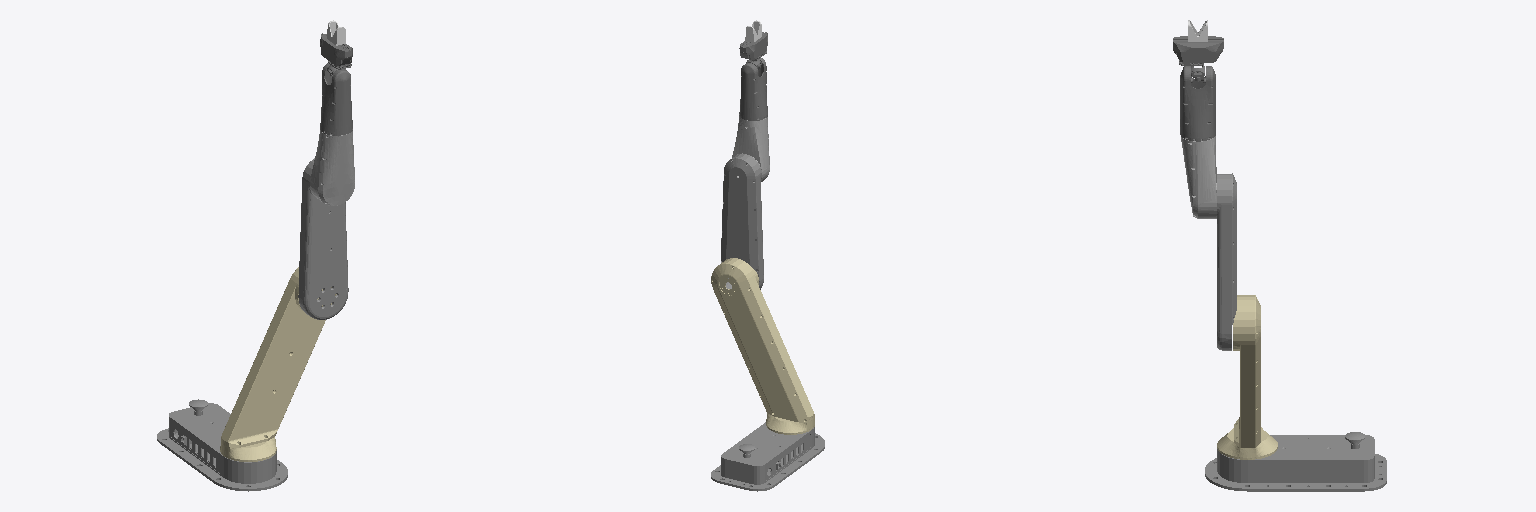
The robot description file, URDF, robot "wam":
<?xml version="1.0"?>
<robot name="wam">

    <link name="arm0">
        <visual>
            <origin xyz="0 0 0" rpy="1.57079633 0 1.57079633" />
            <geometry name="base-geom">
                <mesh filename="package://gambit_driver/models/arm0.stl"/>
            </geometry>
            <material name="base-mat">
                <color rgba="0.6 0.6 0.6 1.0"/>
            </material>
        </visual>
    </link>

    <link name="arm1">
        <visual>
            <origin xyz="0 0 0" rpy="1.5708 0 -1.5708" />
            <geometry name="torso-geom">
                <mesh filename="package://gambit_driver/models/arm1.stl"/>
            </geometry>
            <material name="torso-mat">
                <color rgba="0.83 0.80 0.67 1.0"/>
            </material>
        </visual>
    </link>
    <link name="arm2">
        <visual>
            <origin xyz="0 0 0" rpy="1.5708 0 1.5708" />
            <geometry name="upper_arm-geom">
                <mesh filename="package://gambit_driver/models/arm2.stl" />
            </geometry>
            <material name="upper_arm-mat">
                <color rgba="0.6 0.6 0.6 1.0"/>
            </material>
        </visual>
    </link>
    <link name="arm3">
        <visual>
            <origin xyz="0 0 0" rpy="1.5708 0 -1.5708" />
            <geometry name="forearm-geom">
                <mesh filename="package://gambit_driver/models/arm3.stl" />
            </geometry>
            <material name="forearm-mat">
                <color rgba="0.7 0.7 0.7 1.0"/>
            </material>
        </visual>
    </link>

    <link name="wrist1">
        <visual>
            <origin xyz="0 0 0" rpy="3.14159 0 1.5708"/>
            <geometry name="wrist_cover">
                <mesh filename="package://gambit_driver/models/wrist1.stl"/>
            </geometry>
            <material name="wrist_cover">
                <color rgba="0.5 0.5 0.5 1.0"/>
            </material>
        </visual>
    </link>
    <link name="wrist2">
        <visual>
            <origin xyz="0 0 0" rpy="0 0 1.5708"/>
            <geometry name="wrist2_geom">
                <mesh filename="package://gambit_driver/models/wrist2.stl"/>
            </geometry>
            <material name="wrist2_mat">
                <color rgba="0.5 0.5 0.5 1.0"/>
            </material>
        </visual>
    </link>

    <link name="wrist3">
        <visual>
            <origin xyz="0 0 0" rpy="0 0 1.5708"/>
            <geometry name="wrist3_geom">
                <mesh filename="package://gambit_driver/models/wrist3.stl"/>
            </geometry>
            <material name="wrist3_mat">
                <color rgba="0.5 0.5 0.5 1.0"/>
            </material>
        </visual>
    </link>
    
    <link name="gripper_left">
        <visual>
            <origin xyz="-0.012 -0.02 0.04" rpy="0 3.14159 -1.5708"/>
            <geometry name="gripper_left_geom">
                <mesh filename="package://gambit_driver/models/finger_jaw.stl"/>
            </geometry>
            <material name="gripper_left_mat">
                <color rgba="0.9 0.9 0.9 1.0"/>
            </material>
        </visual>
    </link>

    <link name="gripper_right">
        <visual>
            <origin xyz="0.012 0.02 0.04" rpy="0 3.14159 1.5708"/>
            <geometry name="gripper_right_geom">
                <mesh filename="package://gambit_driver/models/finger_jaw.stl"/>
            </geometry>
            <material name="gripper_right_mat">
                <color rgba="0.9 0.9 0.9 1.0"/>
            </material>
        </visual>
    </link>

    <!-- for debug -->
    <link name="gripper_link"/>
    <link name="gripper_tip"/>

    <!-- TODO: fix next two link tags to new setup -->
    <!-- link name="cameramount">
        <visual>
            <origin xyz="-0.019 0 0.001" rpy="0 0 1.5708"/>
            <geometry name="cameramount_geom">
                <mesh filename="package://gambit_driver/models/cameramount.stl"/>
            </geometry>
            <material name="cameramount_mat">
                <color rgba="0.3 0.3 0.3 1.0"/>
            </material>
        </visual>
    </link-->

    <!--link name="primesensor_frame">
        <visual>
            <origin xyz="0.03 0 -0.03" rpy="0 1.5708 0"/>
            <geometry name="primesensor_geom">
                <mesh filename="package://gambit_driver/models/primesensor.stl"/>
            </geometry>
            <material name="primesensor_mat">
                <color rgba="0.2 0.2 0.2 1.0"/>
            </material>
        </visual>
    </link-->


    <joint name="waist" type="continuous">
        <parent link="arm0"/>
        <child link="arm1"/>
        <axis xyz="0 0 1"/>
        <origin xyz="0 0 .0005" rpy="0 0 0"/>
    </joint>

    <joint name="shoulder" type="continuous">
        <parent link="arm1"/>
        <child link="arm2"/>
        <axis xyz="0 1 0"/>
        <origin xyz="0.160 -0.0305 0.3955" rpy="0 0 0"/>
    </joint>

    <joint name="elbow" type="continuous">
        <parent link="arm2"/>
        <child link="arm3"/>
        <axis xyz="0 1 0"/>
        <origin xyz="0.0 -0.03 0.275" rpy="0 0 0"/>
    </joint>


    <joint name="wrist_roll" type="revolute">
        <parent link="arm3"/>
        <child link="wrist1"/>
        <limit lower="-2.617" upper="2.617" effort="2.775" velocity="8.3"/>
        <axis xyz="0 0 1"/>
        <origin xyz="0 -0.037 0.260" rpy="0 0 0"/>
    </joint>
    <joint name="wrist_pitch" type="revolute">
        <parent link="wrist1"/>
        <child link="wrist2"/>
        <limit lower="-1.57" upper="1.57" effort="2.775" velocity="8.3"/>
        <axis xyz="0 1 0"/>
        <origin xyz="0 0 0" rpy="0 0 0"/>
    </joint>

    <joint name="wrist_yaw" type="revolute">
        <parent link="wrist2"/>
        <child link="wrist3"/>
        <limit lower="-2.617" upper="2.617" effort="2.775" velocity="8.3"/>
        <axis xyz="0 0 1"/>
        <origin xyz="0 0 0" rpy="0 0 0"/>
    </joint>

    <joint name="gripper_left" type="prismatic">
        <parent link="wrist3"/>
        <child link="gripper_left"/>
        <limit lower="-0.1" upper="0.1" effort="2.775" velocity="8.3"/>
        <axis xyz="0 1 0"/>
        <origin xyz="0 0 0.08"/>
    </joint>
    
    <joint name="gripper_right" type="prismatic">
        <parent link="wrist3"/>
        <child link="gripper_right"/>
        <limit lower="-0.1" upper="0.1" effort="2.775" velocity="8.3"/>
        <axis xyz="0 1 0"/>
        <origin xyz="0 0 0.08"/>
    </joint>

	<!-- for debug -->
    <joint name="gripper_link" type="fixed">
        <parent link="gripper_left"/>
        <child link="gripper_link"/>
        <origin xyz="0 0 0" rpy="0 -1.57079632679 -3.14159265359"/>
    </joint>

    <joint name="gripper_tip" type="fixed">
        <parent link="gripper_link"/>
        <child link="gripper_tip"/>
        <origin xyz="0.065 0.019 0"/>
    </joint>

    
    <!-- joint name="camera_mount_attachment" type="fixed">
        <parent link="arm1"/>
        <child link="cameramount"/>
        <origin xyz="0.160 0.028 .396"/>
    </joint -->
    
    <!-- joint name="primesensor_attachment" type="fixed">
        <parent link="cameramount"/>
        <child link="primesensor_frame"/>
        <origin xyz="-0.040 .025 .235" rpy="-2.373651 0 1.5708"/>
    </joint -->

</robot>

--- Render facts (derived) ---
The picture shows the robot from 3 angles, left to right: view 1: azimuth 30°, elevation 25°; view 2: azimuth 150°, elevation 25°; view 3: azimuth 270°, elevation 25°; orthographic projection.
Model wam with 11 links and 10 joints (3 revolute, 3 continuous, 2 prismatic, 2 fixed), rooted at arm0, posed every joint at zero.
Links seen in each view (by area): view 1: arm1, arm2, arm0, arm3, wrist1, wrist3; view 2: arm1, arm0, arm2, wrist1, arm3; view 3: arm0, arm1, arm2, wrist1, arm3, wrist3.
Link boxes in pixels (x1,y1,x2,y2): arm1: (220,267,336,461); arm2: (298,158,348,319); arm0: (157,399,287,491); arm3: (310,130,354,205); wrist1: (320,63,352,135); wrist3: (320,33,352,69); arm1: (711,258,814,434); arm0: (711,422,824,491); arm2: (721,154,763,289); wrist1: (739,58,767,120); arm3: (732,116,769,181); arm0: (1205,432,1386,491); arm1: (1217,295,1277,459); arm2: (1217,173,1236,350); wrist1: (1180,66,1215,141); arm3: (1181,136,1216,218); wrist3: (1173,36,1223,65).
Bounding box of the posed robot: 0.3 × 0.4225 × 1.06 m (x, y, z).
9 mesh visuals loaded from 8 distinct referenced files (8 binary STL).
